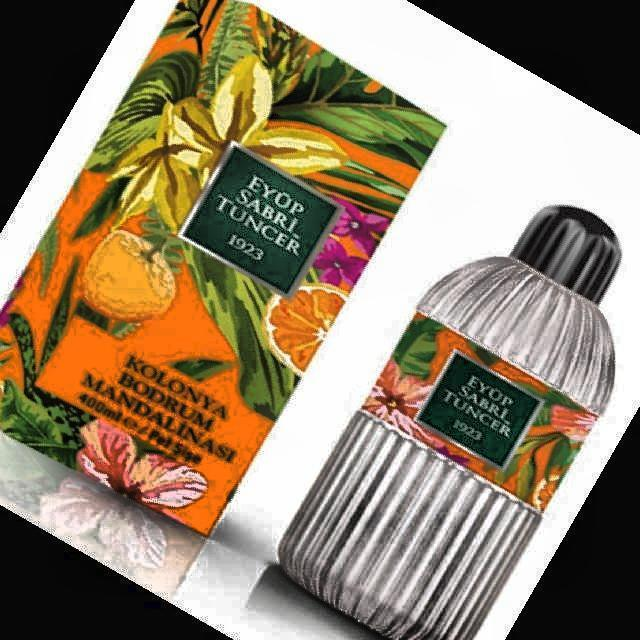cardboard: (0, 0, 444, 534)
plastic: (279, 208, 620, 640)
